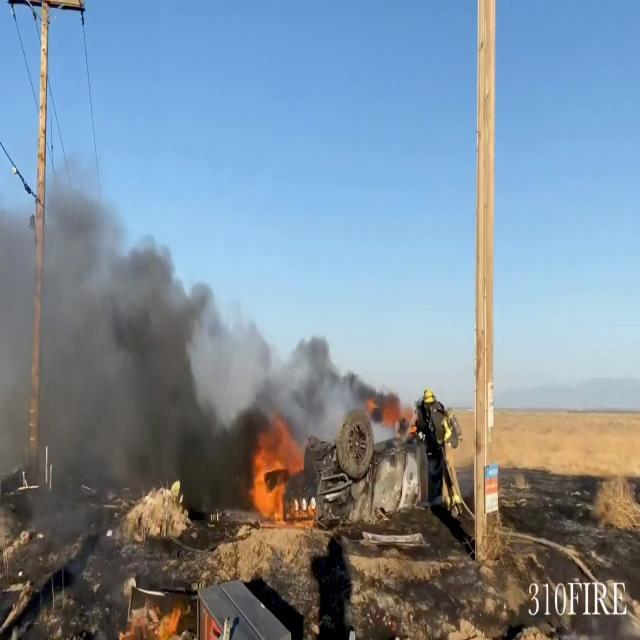Fire: (245, 422, 307, 524)
Smoke: (37, 164, 360, 521), (0, 149, 38, 506)
